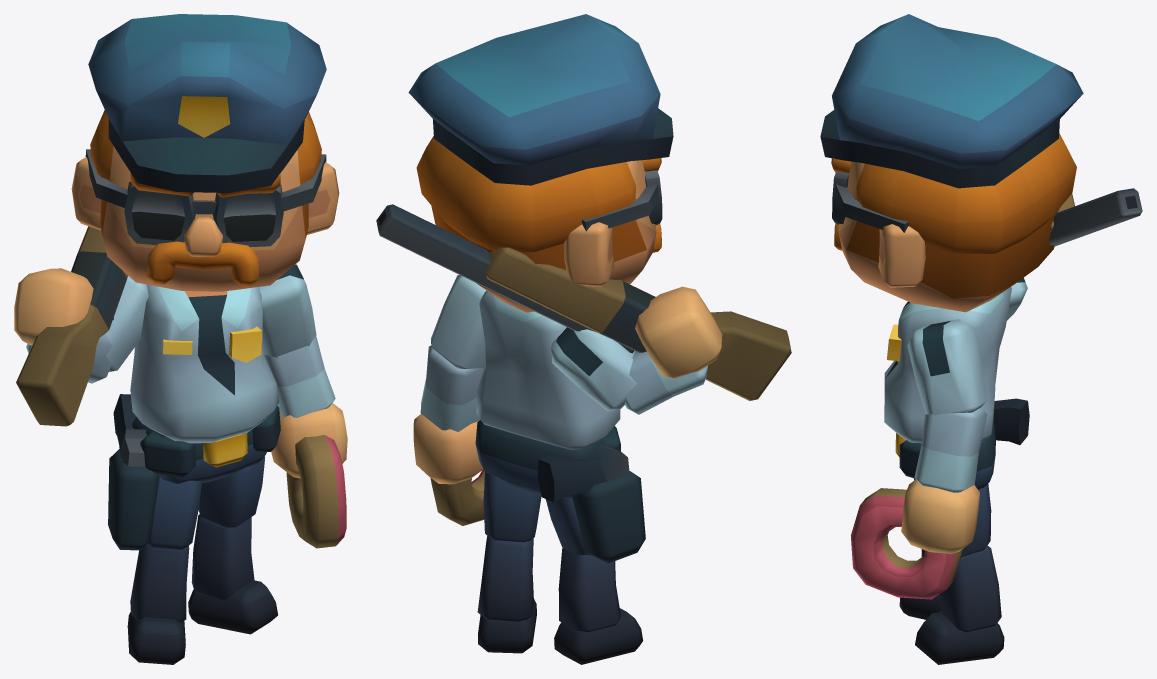
File: police_officer_redford_-_proto_series_-_free.glb
3 renders of one model, left to right at view 1: azimuth 30°, elevation 25°; view 2: azimuth 150°, elevation 25°; view 3: azimuth 270°, elevation 25°, orthographic. The views are drawn at different scales.
Parts seen in each view (by area): view 1: male_head_cop2; view 2: male_head_cop2; view 3: male_head_cop2.
Part boxes in pixels (x1,y1,x2,y2): male_head_cop2: (14,14,347,664); male_head_cop2: (376,14,791,664); male_head_cop2: (820,14,1142,664).
Bounding box in the file's own units: 111 × 188 × 90.56.
Materials: 2 (2 with a texture image).
